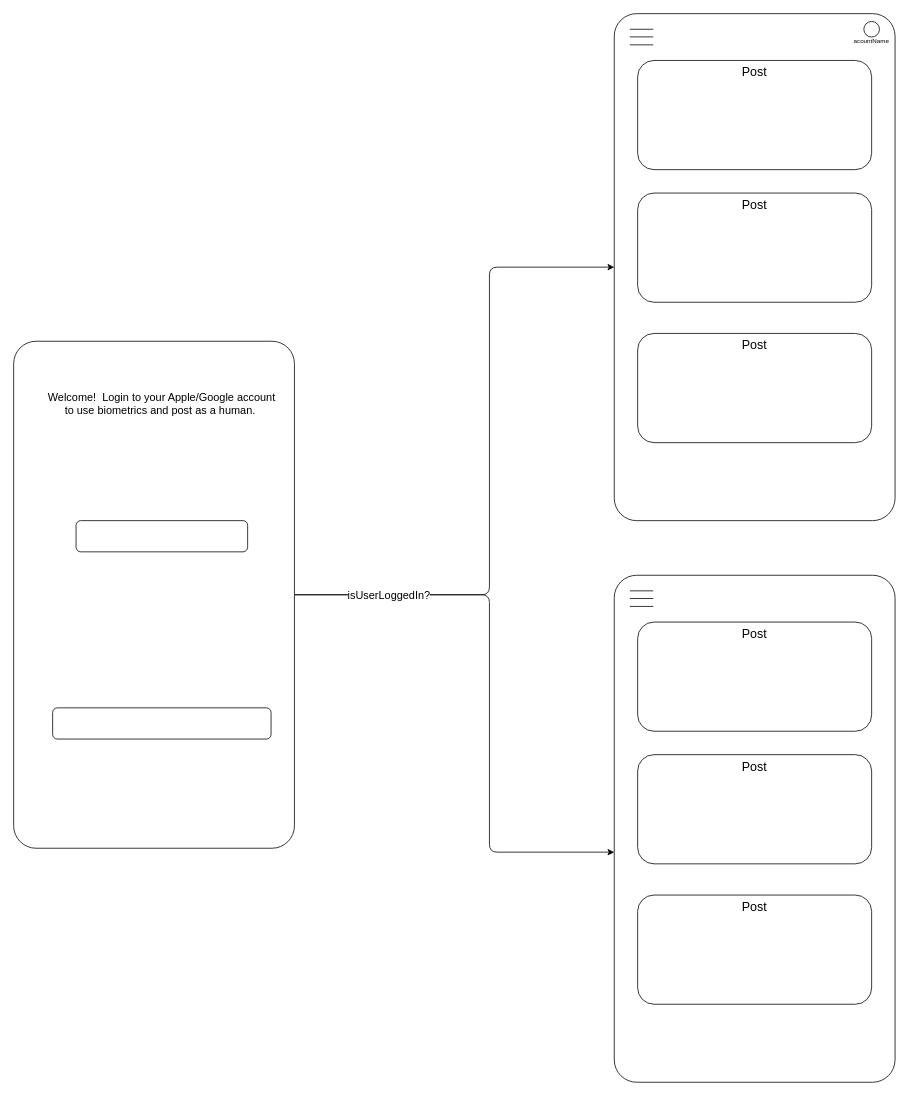
The diagram is 924 pixels wide and 1096 high, and some of its shapes have lost their labels. The shapes that lost their labels are listed below. From the top down, each one's box as (x1, y1, x2, y2) in pixels, then its label:
(75, 520, 248, 552): Login to Apple/Google
(52, 707, 271, 739): Skip login and browse anonymously
